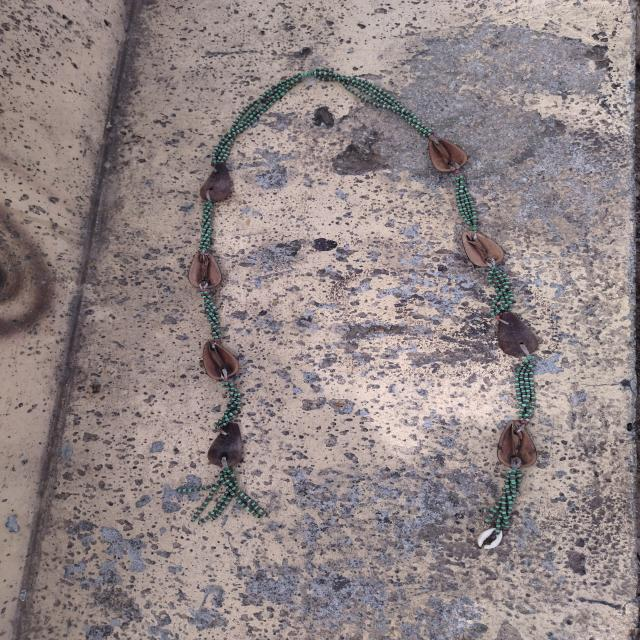facedown: (486, 306, 548, 364), (204, 419, 254, 479), (190, 156, 245, 209)
faceup: (451, 223, 514, 276), (189, 334, 249, 386), (493, 415, 542, 473), (418, 132, 477, 178), (179, 246, 228, 294)
